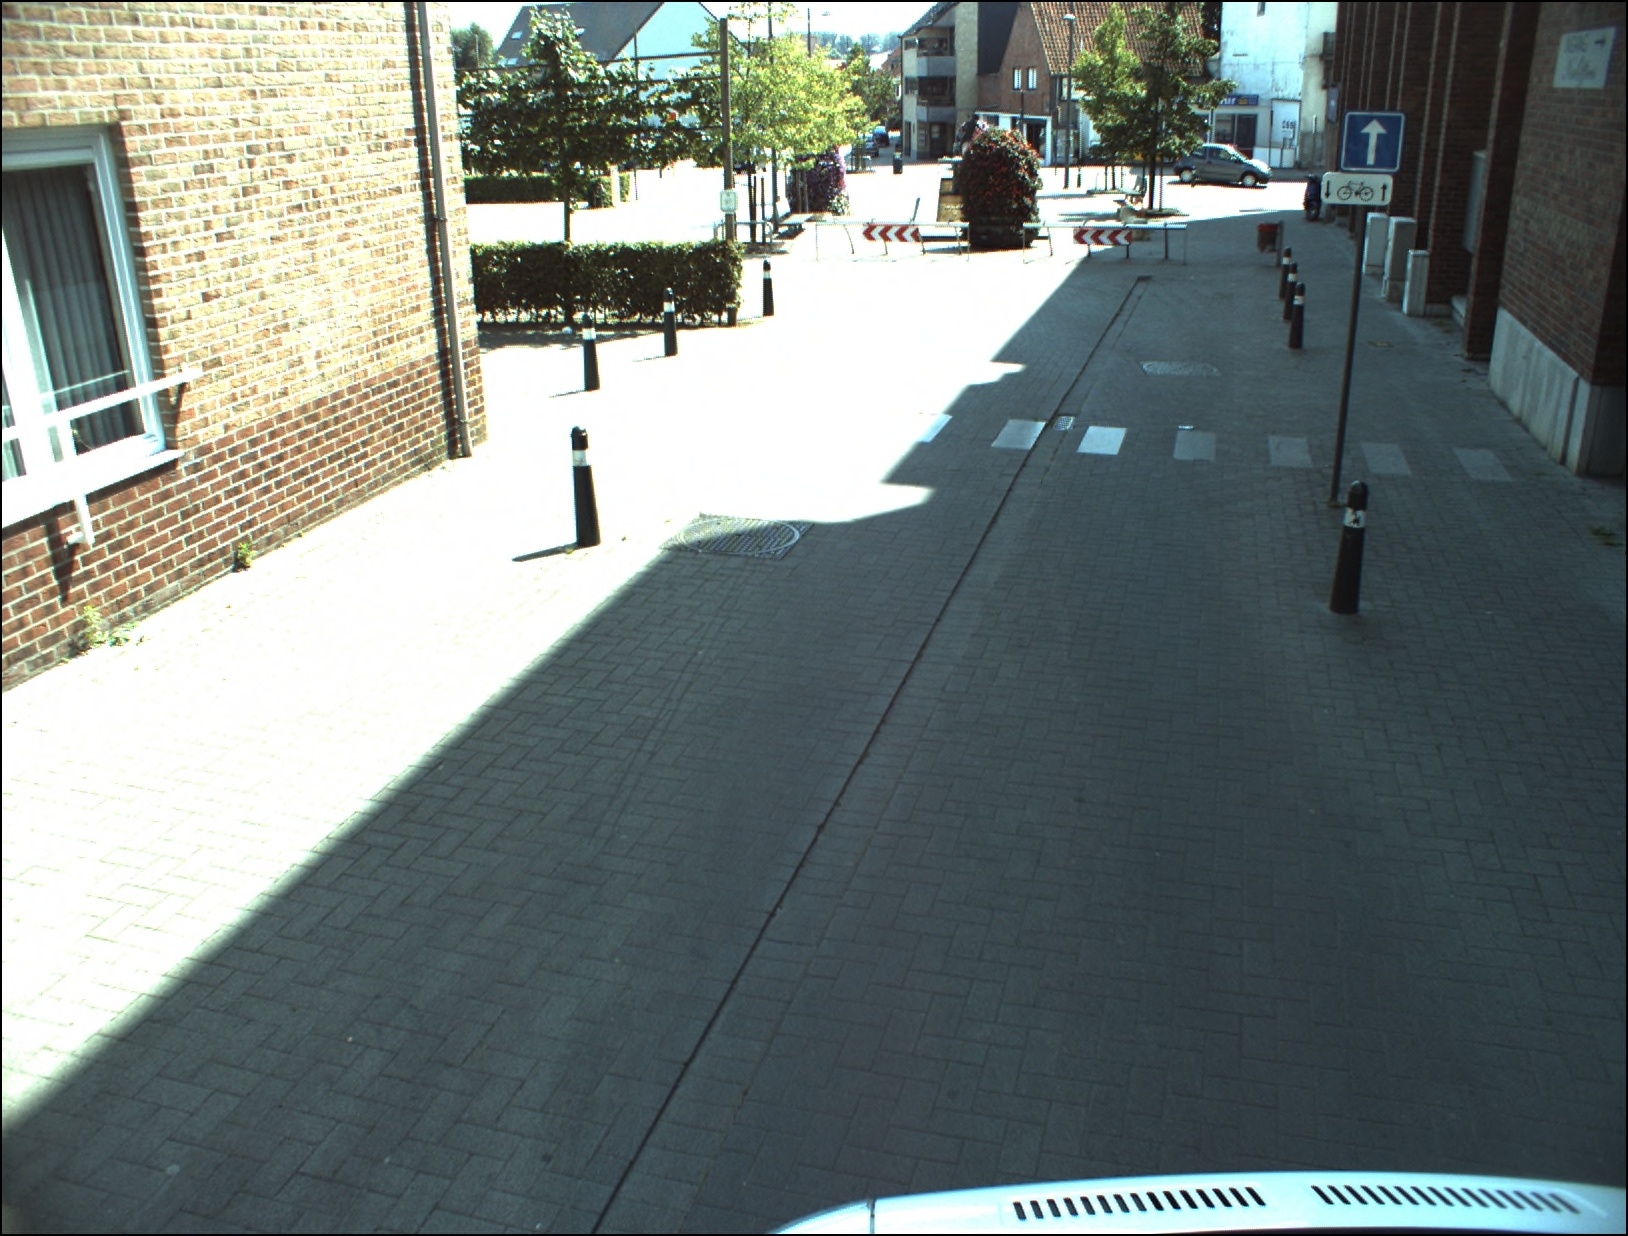oneway: (1340, 112, 1403, 170)
